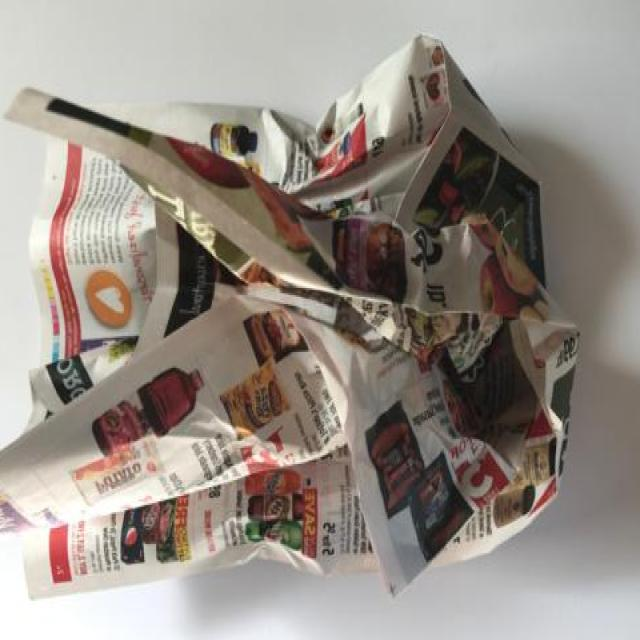kertas: (0, 32, 581, 603)
